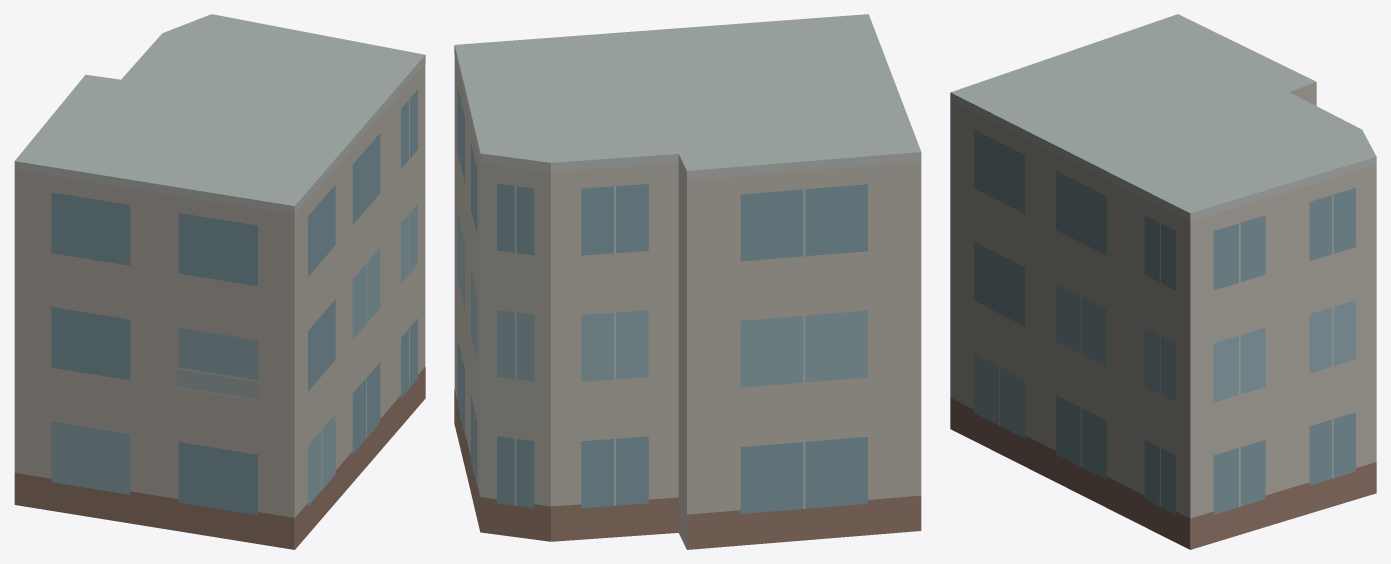
Rendered from survey-upis-32629623.glb.
3 views of the same model, side by side, from view 1: azimuth 30°, elevation 25°; view 2: azimuth 150°, elevation 25°; view 3: azimuth 270°, elevation 25° (orthographic). The views are drawn at different scales.
Visible parts, largest first — view 1: survey-upis-32629623.tmp; view 2: survey-upis-32629623.tmp; view 3: survey-upis-32629623.tmp.
Boxes of the visible parts, x1,y1,x2,y2 form: survey-upis-32629623.tmp: [14, 14, 425, 549]; survey-upis-32629623.tmp: [454, 14, 921, 549]; survey-upis-32629623.tmp: [950, 14, 1376, 549].
Bounding box in the file's own units: 12.58 × 9.9 × 11.37.
